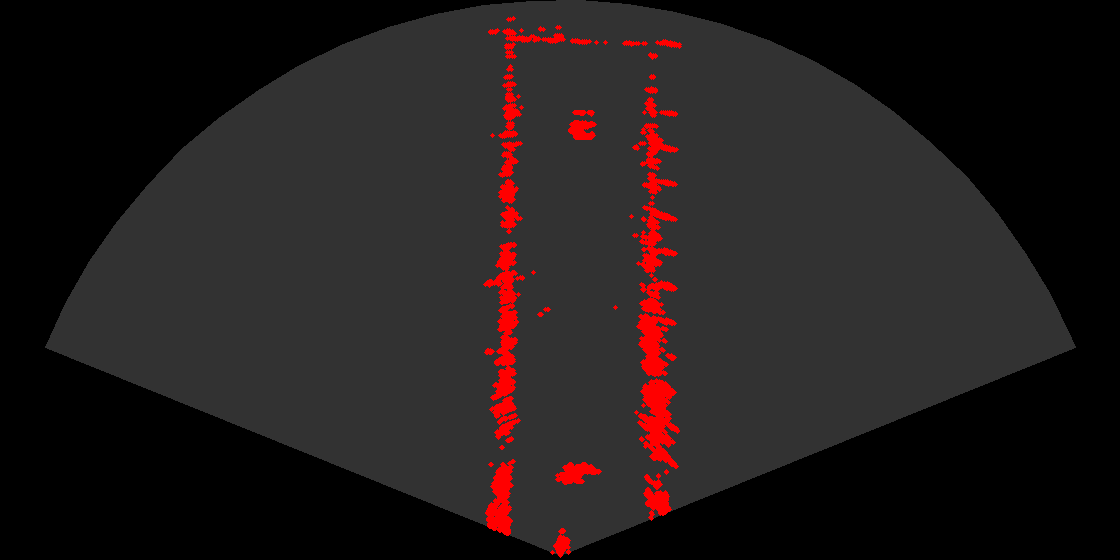AUV: (549, 460, 605, 492)
ball: (548, 102, 608, 143)
